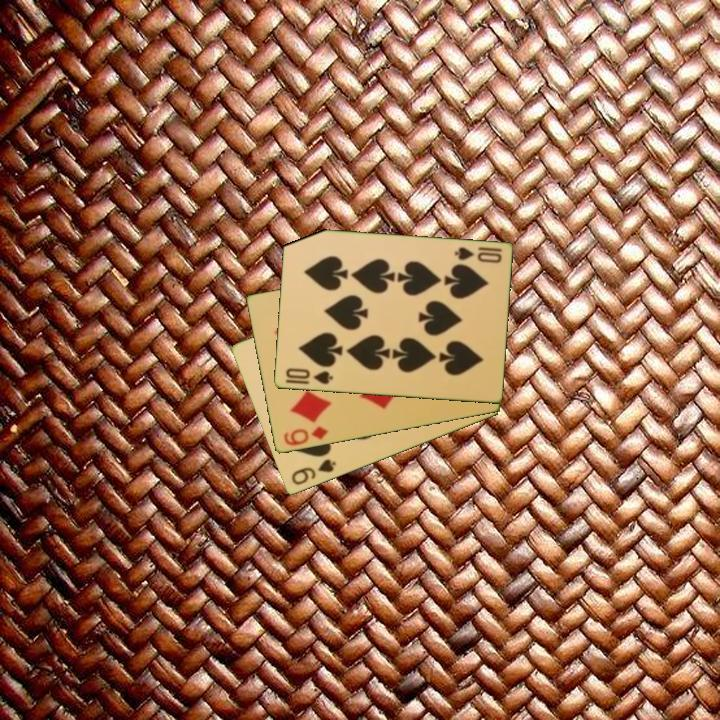10s: (282, 365, 336, 387), (451, 244, 504, 266)
6d: (280, 423, 331, 449)
9s: (288, 456, 339, 488)
